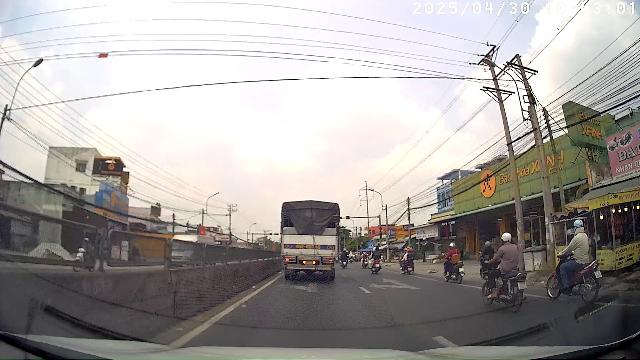423a-duong-nguoi-di-bo-sang-ngang-1: (368, 242, 374, 248)
